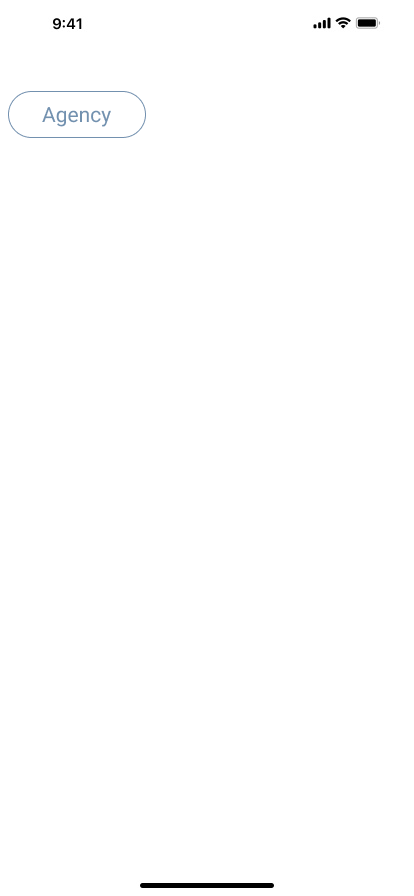Buttons: (8, 91, 154, 138)
Home Indicator: (0, 862, 414, 896)
Status Bar: (0, 0, 414, 44)
